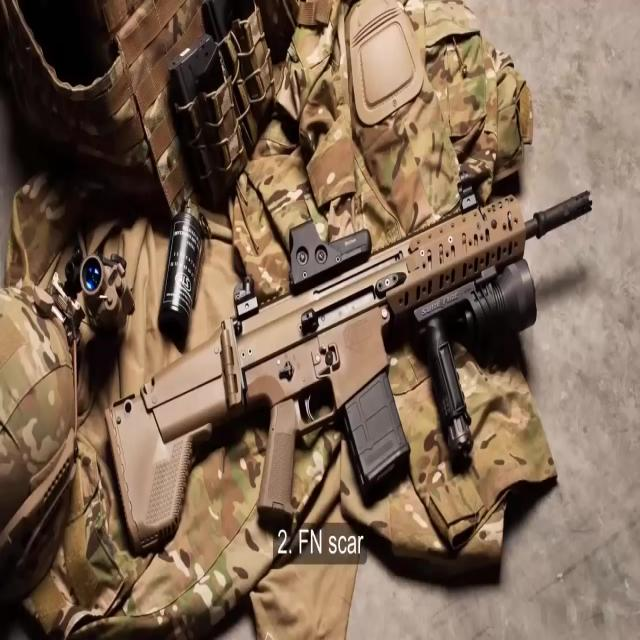Weapon: (103, 171, 626, 544)
